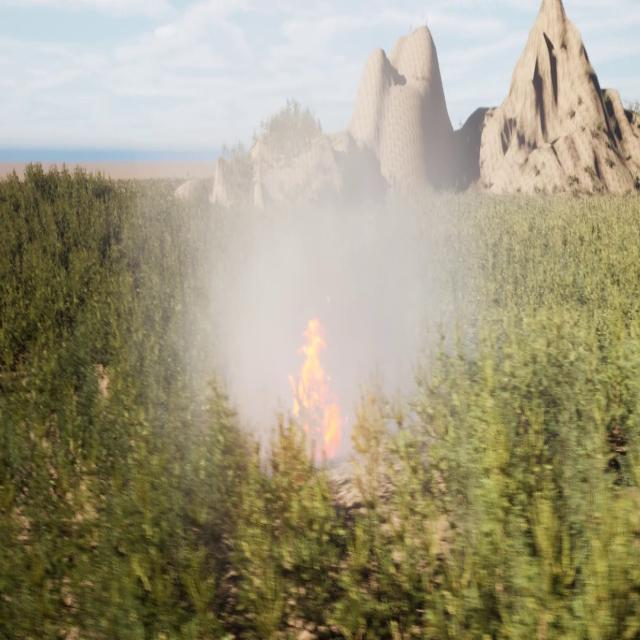fire: (286, 310, 342, 461)
smoke: (144, 29, 488, 503)
